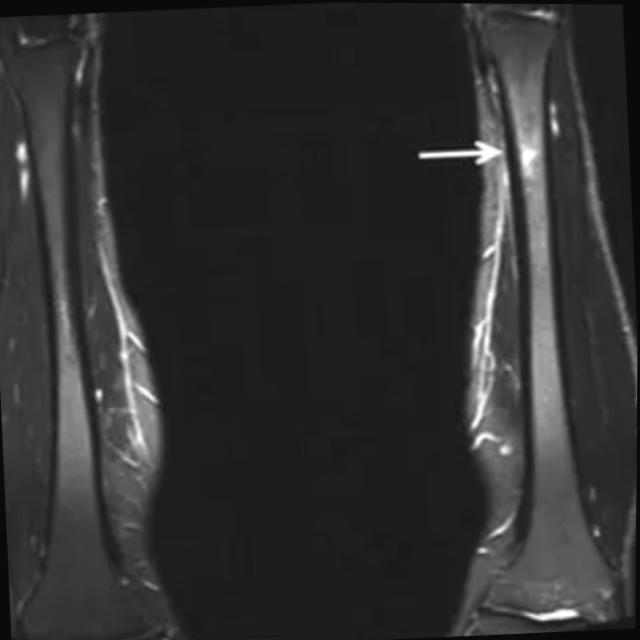Greenstick: (510, 124, 546, 185)
